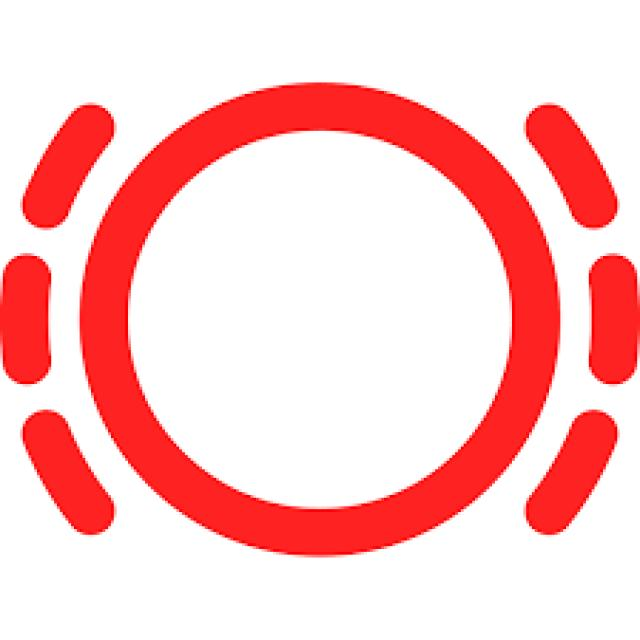kontrolka: (5, 92, 635, 541)
